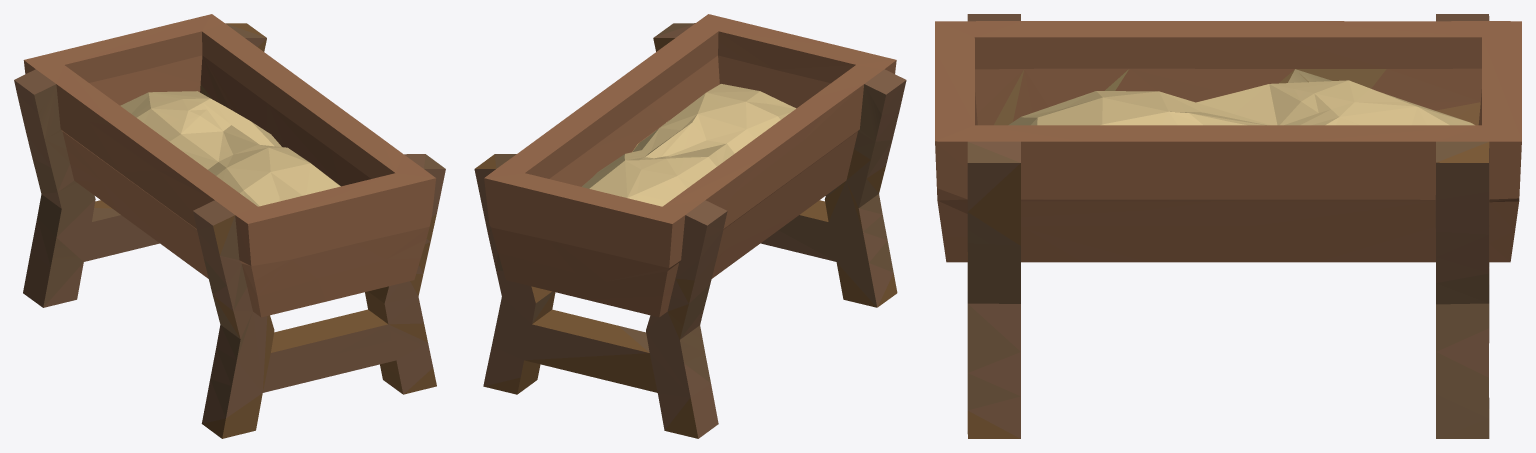
File: mdvl_props_feed_trough_01.glb
3 renders of one model, left to right at view 1: azimuth 30°, elevation 25°; view 2: azimuth 150°, elevation 25°; view 3: azimuth 270°, elevation 25°, orthographic. The views are drawn at different scales.
Visible parts, largest first — view 1: mdvl_props_feed_trough_01; view 2: mdvl_props_feed_trough_01; view 3: mdvl_props_feed_trough_01.
Boxes of the visible parts, x1,y1,x2,y2 form: mdvl_props_feed_trough_01: [14, 14, 445, 438]; mdvl_props_feed_trough_01: [474, 14, 906, 438]; mdvl_props_feed_trough_01: [935, 14, 1521, 438].
Size of the model in its own units: 0.7211 by 0.6531 by 1.2.
Materials: 1 (1 with a texture image).
